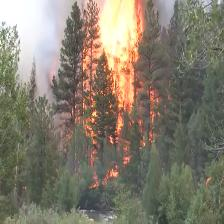fire: (100, 1, 135, 84)
